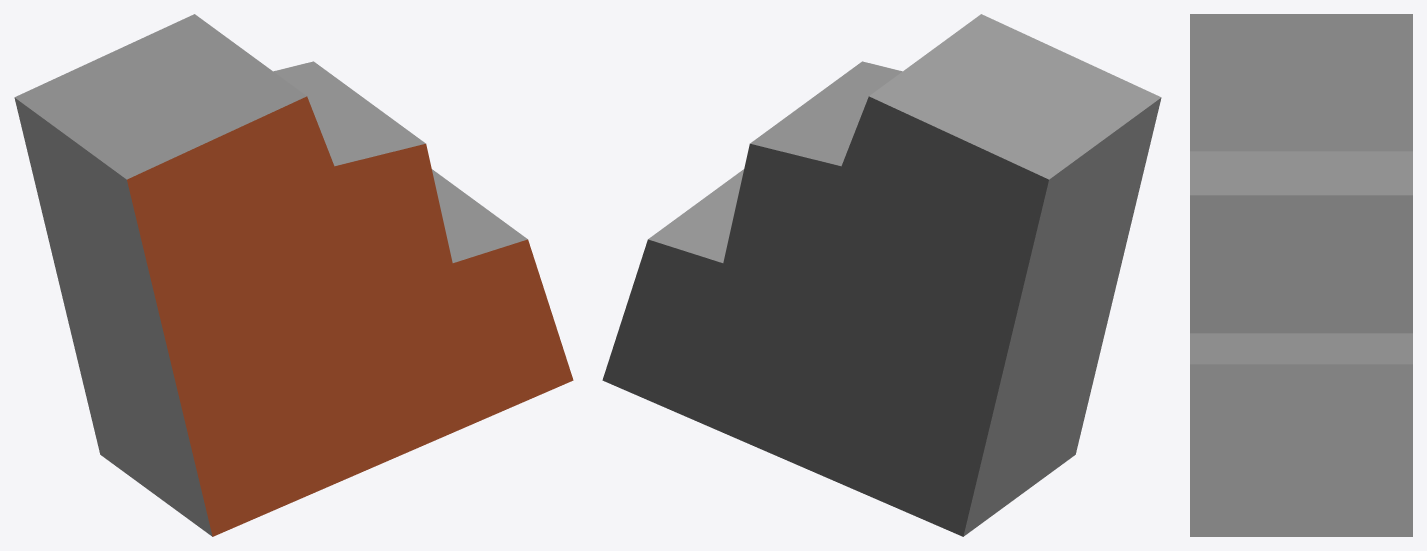
File: construction_6661_assumed_A_Casa_h6m.obj
3 renders of one model, left to right at view 1: azimuth 30°, elevation 25°; view 2: azimuth 150°, elevation 25°; view 3: azimuth 270°, elevation 25°, orthographic.
Parts seen in each view (by area): view 1: construction_6661_assumed_A_Casa; view 2: construction_6661_assumed_A_Casa; view 3: construction_6661_assumed_A_Casa.
Part boxes in pixels (x1,y1,x2,y2): construction_6661_assumed_A_Casa: (14, 14, 573, 536); construction_6661_assumed_A_Casa: (602, 14, 1161, 536); construction_6661_assumed_A_Casa: (1190, 14, 1412, 536).
Size of the model in its own units: 13.77 by 12.3 by 6.
